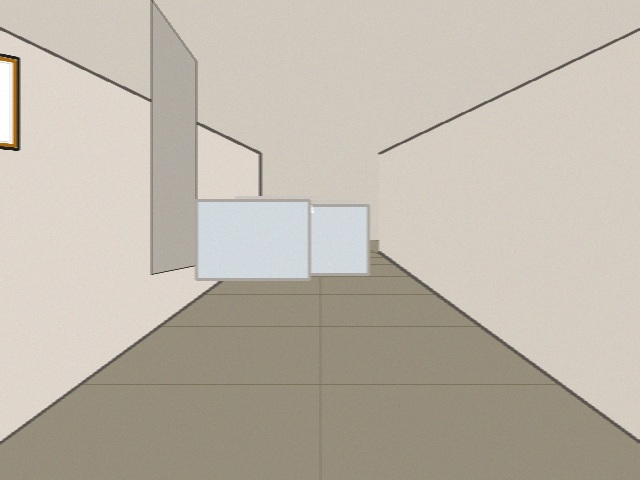directional_sign: (0, 7, 18, 149)
hospital_bed: (196, 200, 313, 279), (270, 205, 368, 274)
